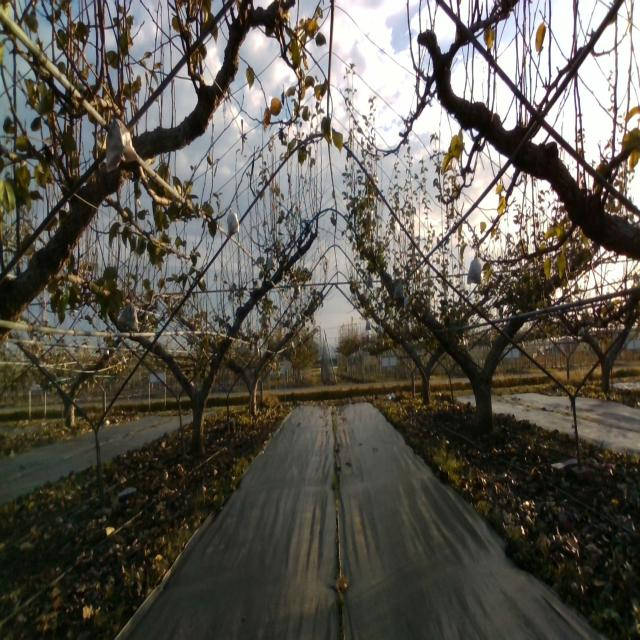pearbags: (106, 116, 140, 173), (467, 253, 483, 285), (227, 206, 240, 238), (393, 278, 405, 301), (266, 252, 278, 272)
